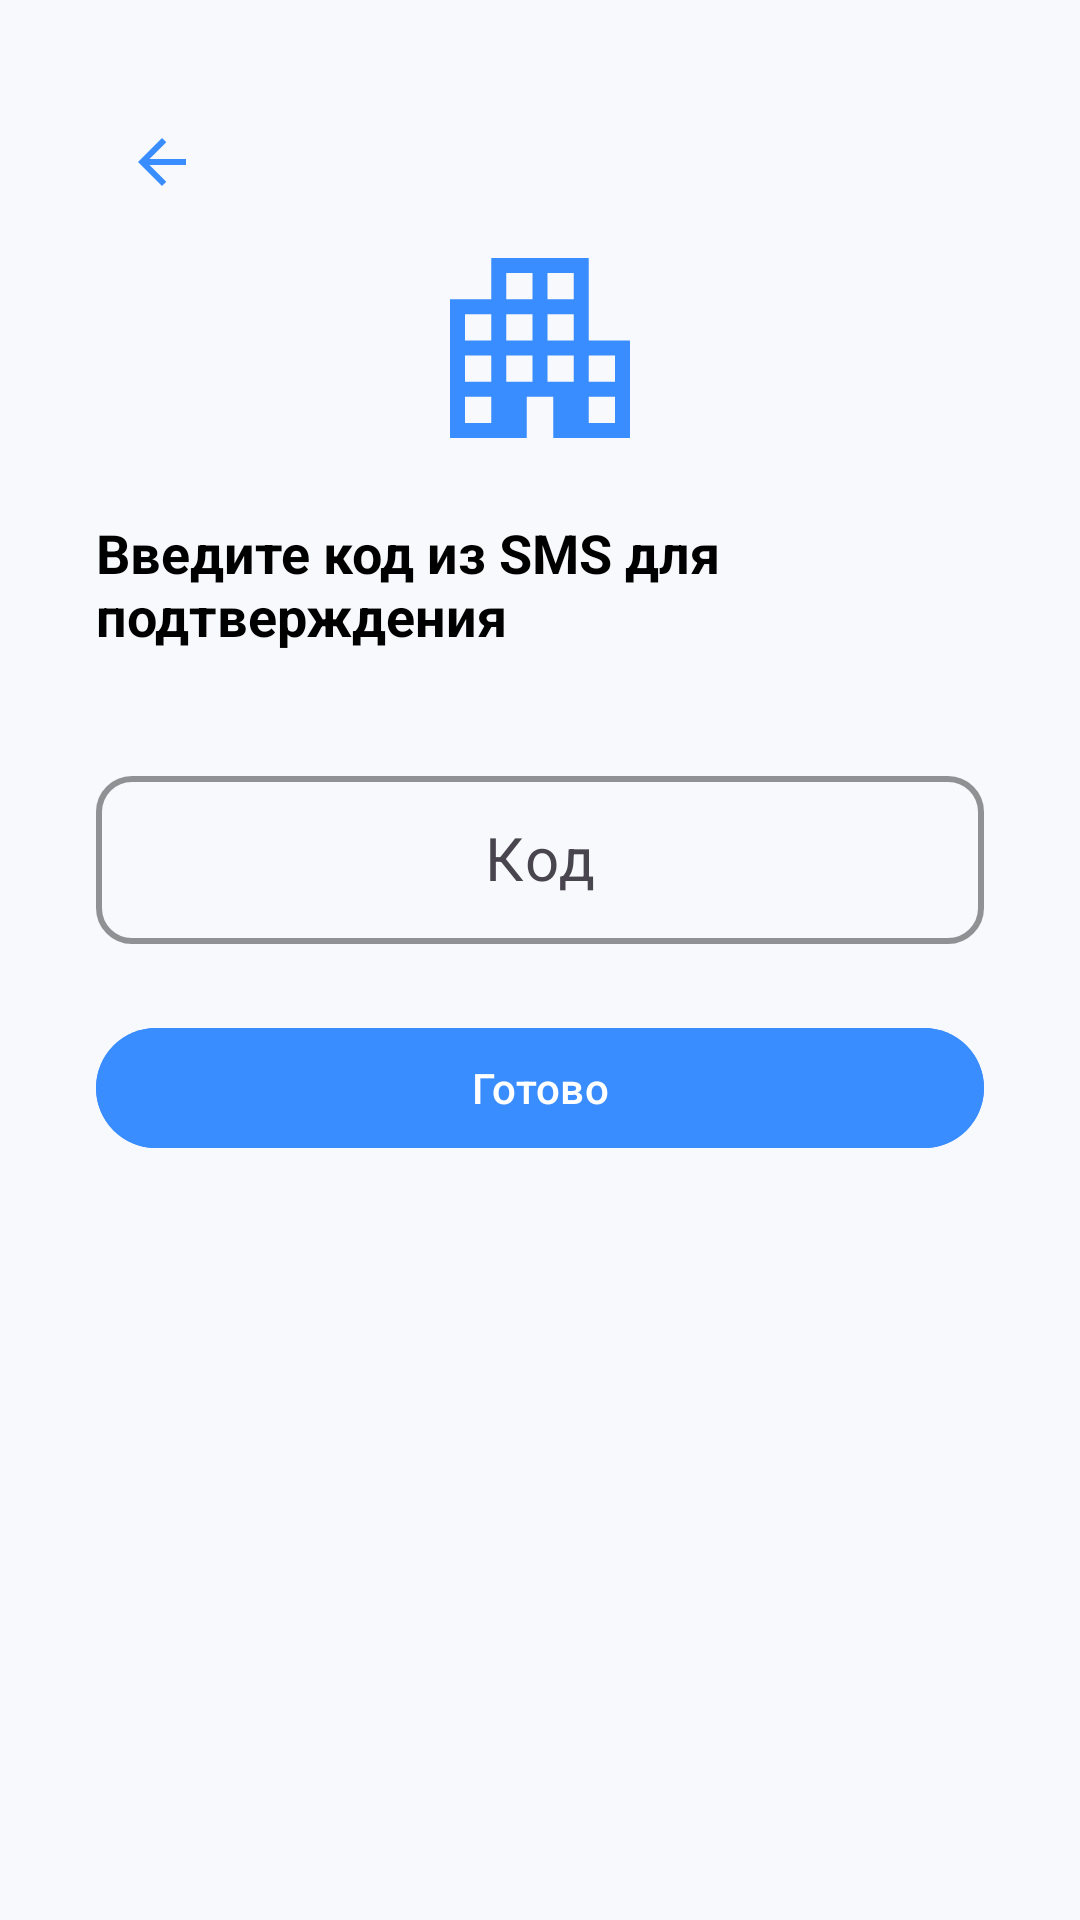

Where icons sit on this 1080*1920 app screen, as (x1, y1, x2, y2):
back: (138, 138, 186, 186)
